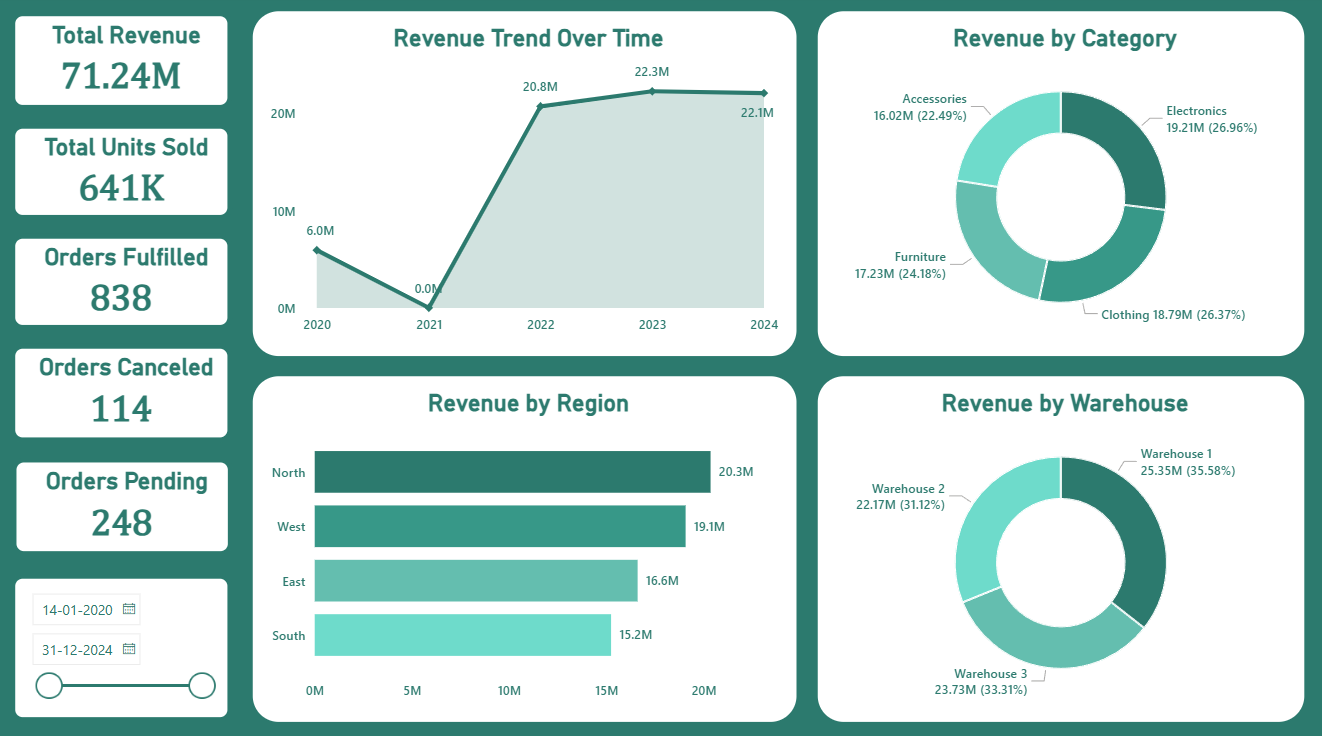

This screenshot's page, from the dashboard's own definition file:
{"tool":"powerbi","page":{"name":"BUSINESS PERFORMANCE OVERVIEW","canvas":[1280,720],"ordinal":0},"visuals":[{"type":"card","title":"Total Revenue","fields":{"Values":["inventory_operations.Total Revenue"]},"box":[10.9,15.7,214.7,95.3],"z":0},{"type":"card","title":"Total Units Sold","fields":{"Values":["inventory_operations.Total Units Sold"]},"box":[10.9,124.3,214.7,92.9],"z":1000},{"type":"card","title":"Orders Fulfilled","fields":{"Values":["inventory_operations.Orders Fufilled"]},"box":[10.9,230.4,214.7,92.9],"z":2000},{"type":"card","title":"Orders Canceled","fields":{"Values":["inventory_operations.Orders Canceled"]},"box":[10.9,336.6,214.7,95.3],"z":3000},{"type":"lineChart","title":"Revenue Trend Over Time","fields":{"Category":["inventory_operations.date.Variation.Date Hierarchy.Year"],"Y":["Sum(inventory_operations.Cost of Goods Sold (COGS))"]},"box":[244.6,15.9,524.6,332.6],"z":4000},{"type":"clusteredBarChart","title":"Revenue by Region","fields":{"Category":["inventory_operations.region"],"Y":["Sum(inventory_operations.Cost of Goods Sold (COGS))"]},"box":[244.6,368.1,524.6,333.8],"z":5000},{"type":"donutChart","title":"Revenue by Warehouse","fields":{"Y":["Sum(inventory_operations.Cost of Goods Sold (COGS))"],"Category":["inventory_operations.warehouse"]},"box":[789.9,368.1,469.6,333.8],"z":6000},{"type":"card","title":"Orders Pending","fields":{"Values":["inventory_operations.Orders Pending"]},"box":[12.1,446.4,213.5,95.3],"z":7000},{"type":"donutChart","title":"Revenue by Category","fields":{"Category":["inventory_operations.category"],"Y":["Sum(inventory_operations.Cost of Goods Sold (COGS))"]},"box":[789.9,15.9,469.6,332.6],"z":8000},{"type":"slicer","fields":{"Values":["inventory_operations.date"]},"box":[10.9,558.6,214.7,143.6],"z":9000}]}

Visuals, with their boxes in screenshot pixels (x1, y1, x2, y2), scaled from the page's 1280x720 canvas onto the 1322x736 screenshot:
"Total Revenue" card: {"x1": 11, "y1": 16, "x2": 233, "y2": 113}
"Total Units Sold" card: {"x1": 11, "y1": 127, "x2": 233, "y2": 222}
"Orders Fulfilled" card: {"x1": 11, "y1": 236, "x2": 233, "y2": 330}
"Orders Canceled" card: {"x1": 11, "y1": 344, "x2": 233, "y2": 441}
"Revenue Trend Over Time" lineChart: {"x1": 253, "y1": 16, "x2": 794, "y2": 356}
"Revenue by Region" clusteredBarChart: {"x1": 253, "y1": 376, "x2": 794, "y2": 717}
"Revenue by Warehouse" donutChart: {"x1": 816, "y1": 376, "x2": 1301, "y2": 717}
"Orders Pending" card: {"x1": 12, "y1": 456, "x2": 233, "y2": 554}
"Revenue by Category" donutChart: {"x1": 816, "y1": 16, "x2": 1301, "y2": 356}
slicer - inventory_operations.date: {"x1": 11, "y1": 571, "x2": 233, "y2": 718}
